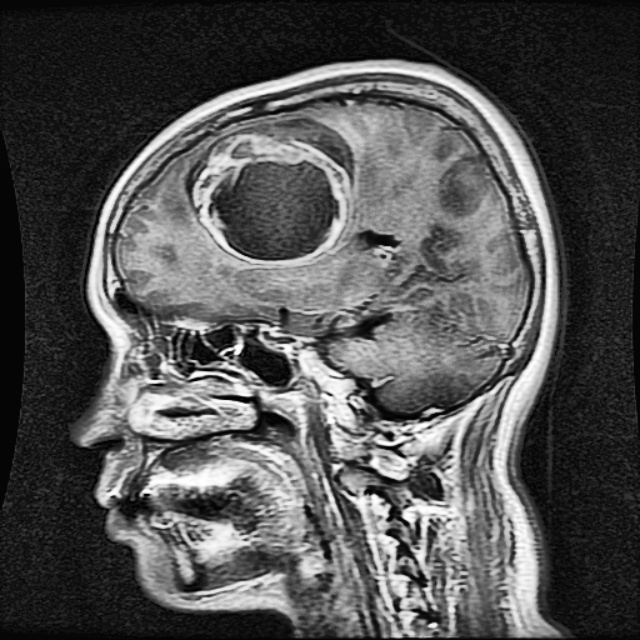Meningioma: (184, 117, 353, 264)
